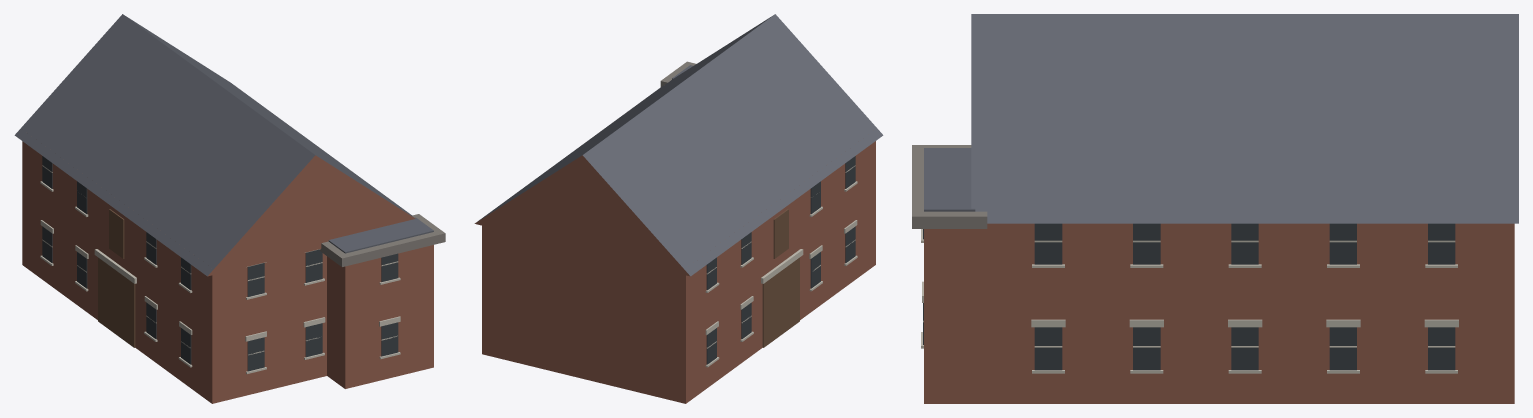
File: marsh_house_1824_prairie_coach_house__draft_1904.glb
The picture shows the model from 3 angles, left to right: view 1: azimuth 30°, elevation 25°; view 2: azimuth 150°, elevation 25°; view 3: azimuth 270°, elevation 25°; orthographic projection. The views are drawn at different scales.
Visible parts, largest first — view 1: marsh_house_1824_prairie_coach_house__draft_1904; view 2: marsh_house_1824_prairie_coach_house__draft_1904; view 3: marsh_house_1824_prairie_coach_house__draft_1904.
Boxes of the visible parts, left/top/right/bottom form: marsh_house_1824_prairie_coach_house__draft_1904: left=14, top=14, right=445, bottom=403; marsh_house_1824_prairie_coach_house__draft_1904: left=474, top=14, right=883, bottom=403; marsh_house_1824_prairie_coach_house__draft_1904: left=912, top=14, right=1518, bottom=403.
Bounding box in the file's own units: 10.4 × 10.29 × 17.72.
